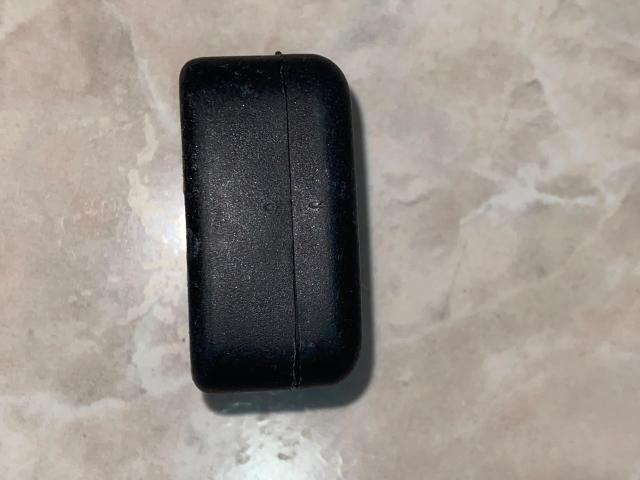HDPE: (180, 58, 365, 392)
